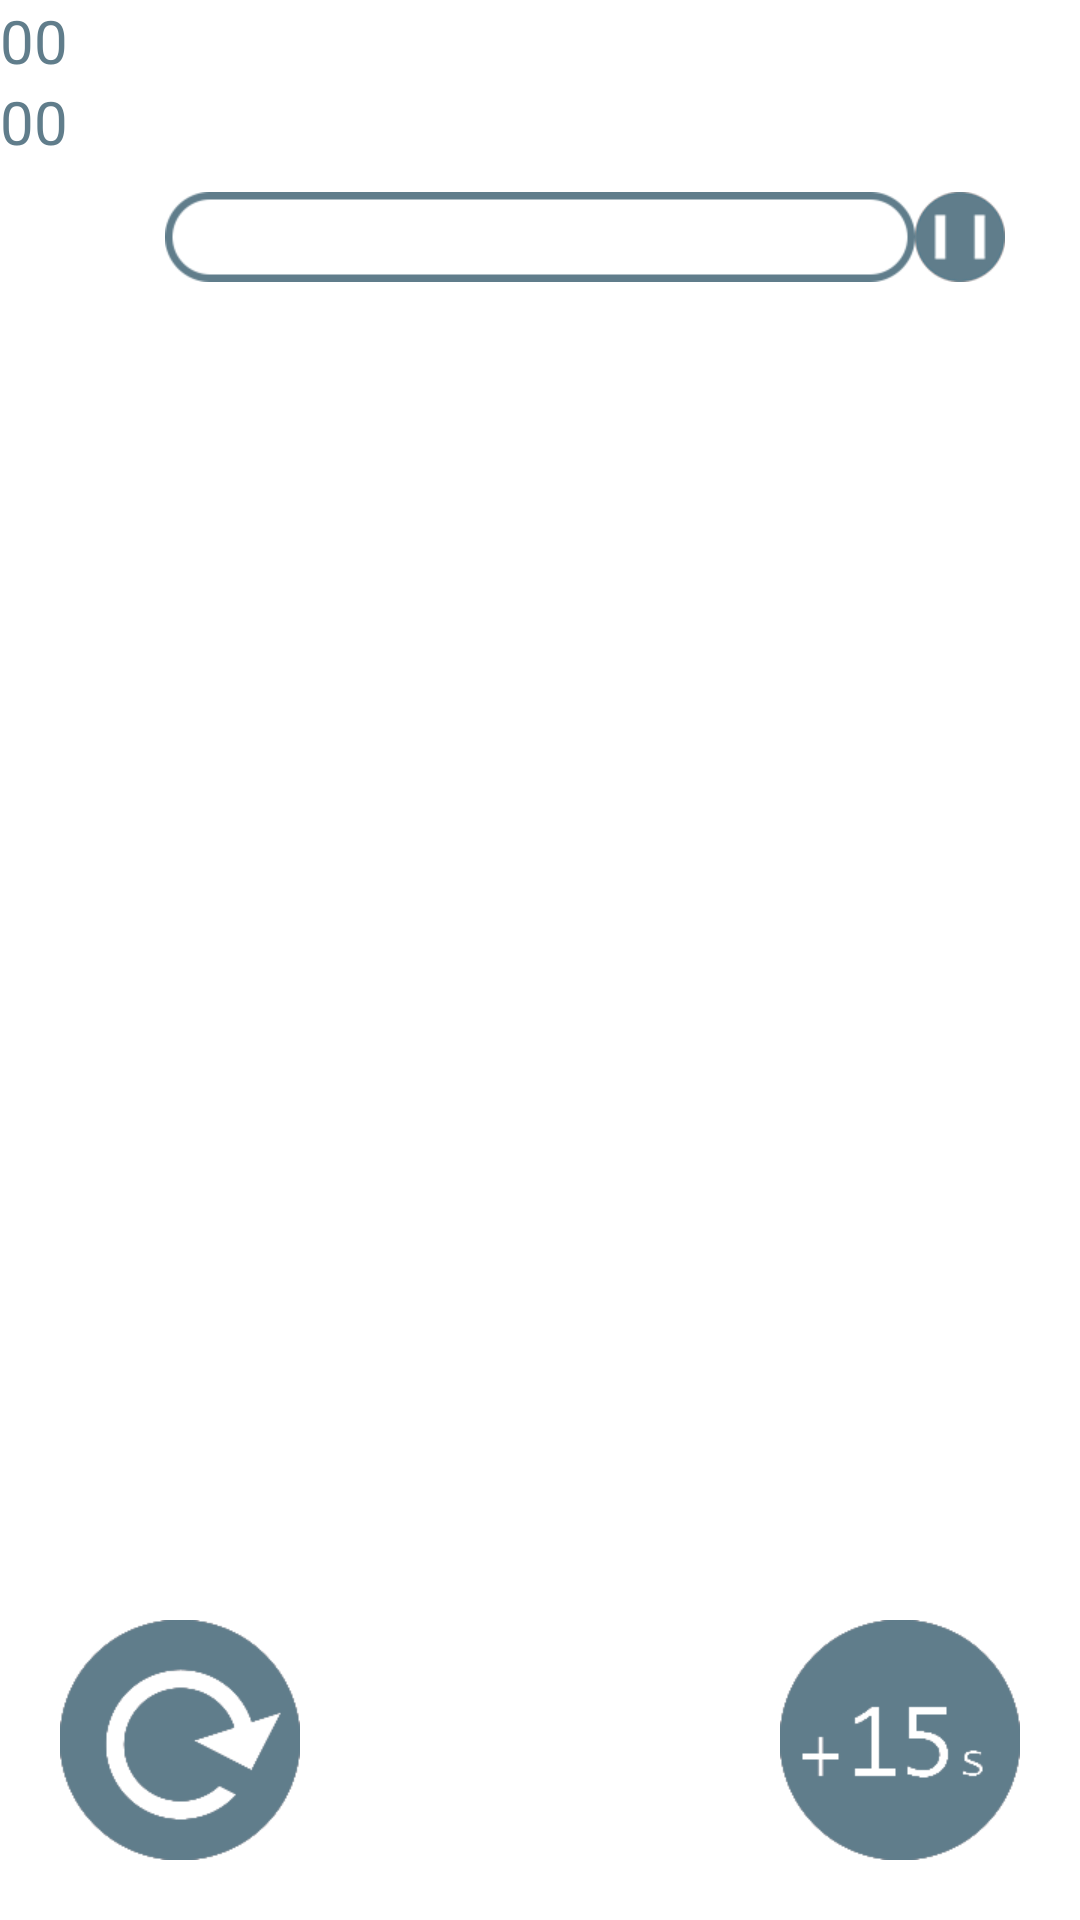

Locate icon controls on the screen. Image size 1080x1920, boxes as (x1, y1, x2, y2).
supspend: (915, 192, 1005, 282)
